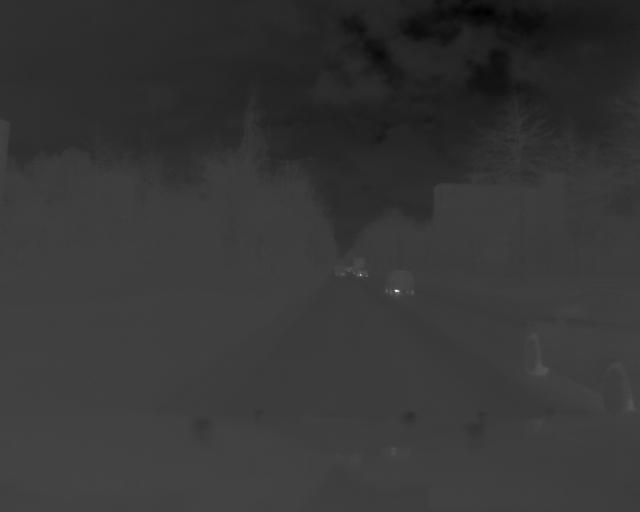car: (522, 294, 640, 419), (380, 268, 418, 301), (357, 265, 372, 278)
